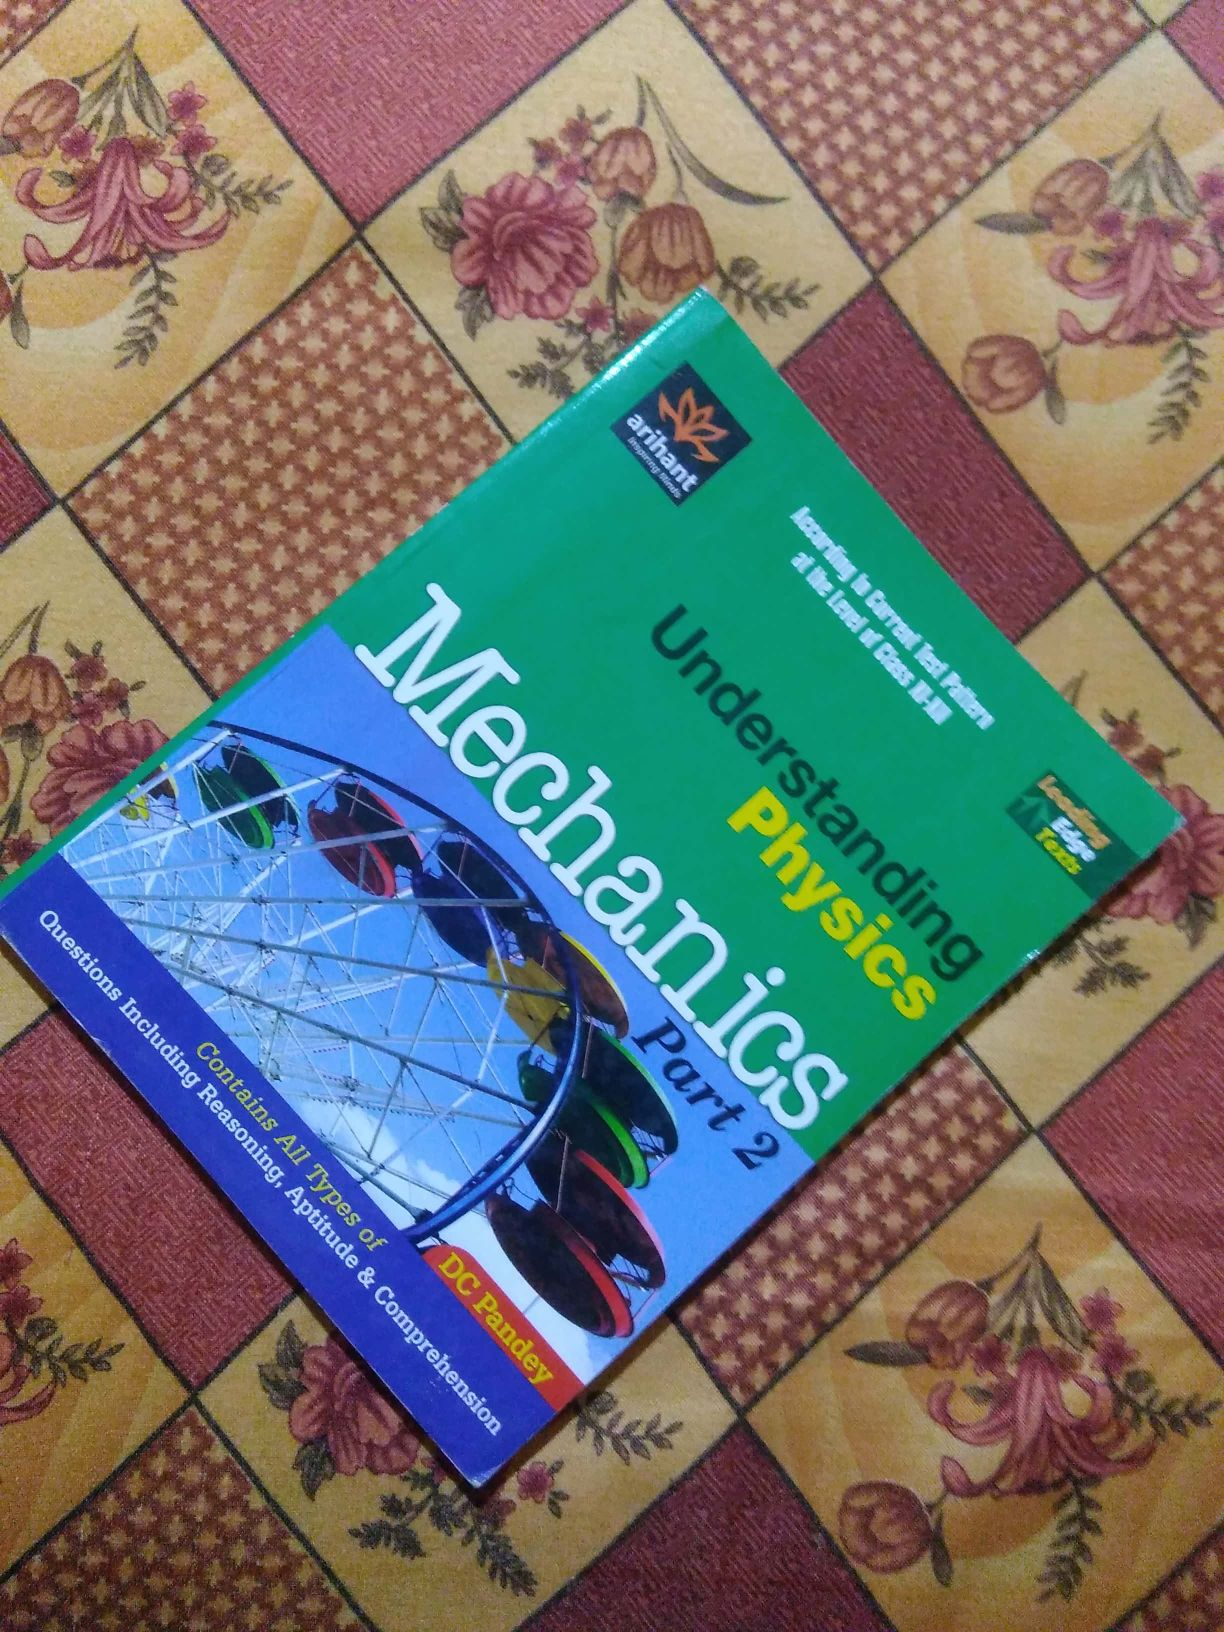mechanics: (64, 321, 1155, 1429)
